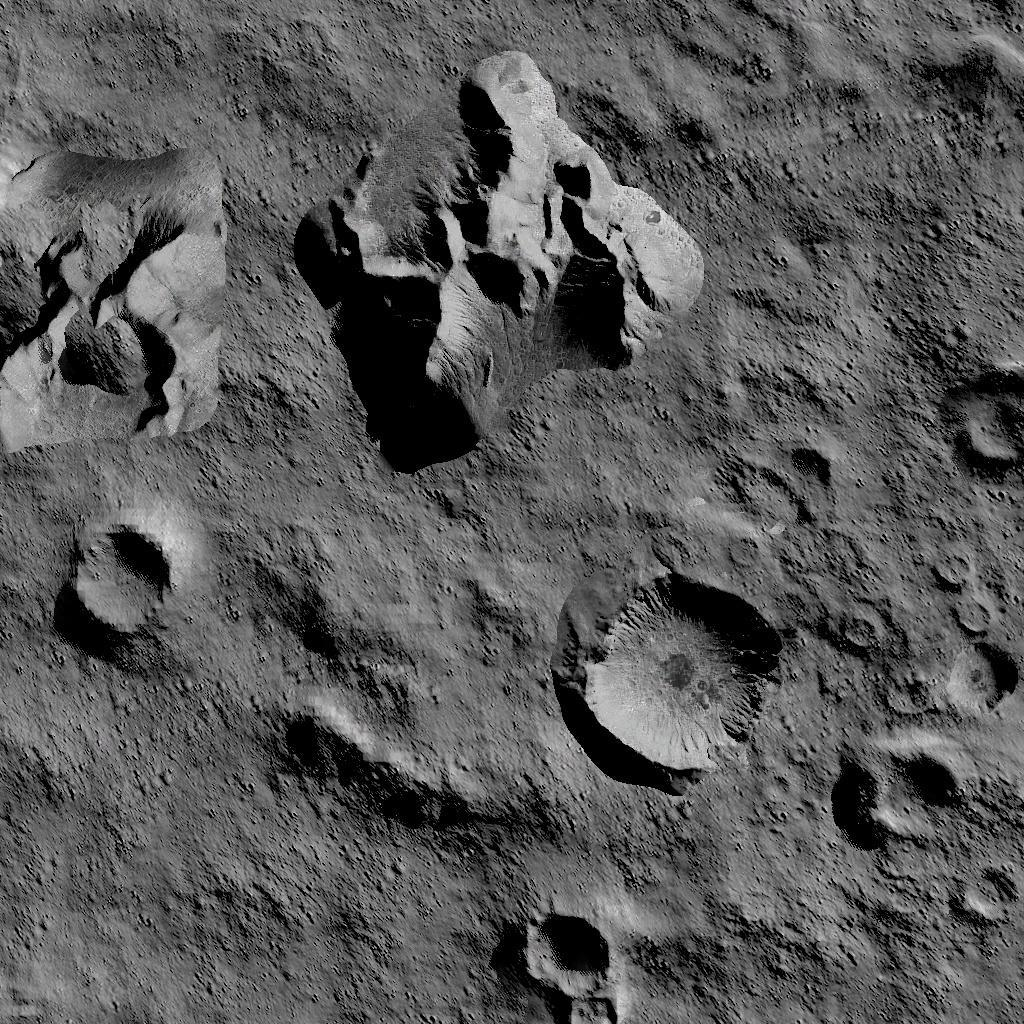Boulders: (296, 52, 700, 470), (0, 142, 226, 458), (286, 698, 560, 852), (911, 38, 1024, 110)
Crater: (574, 570, 780, 778), (831, 735, 975, 855), (511, 910, 623, 1024), (68, 522, 176, 636), (953, 365, 1024, 480), (956, 868, 1020, 930)
Plan surface: (0, 652, 273, 1024), (716, 132, 1024, 352), (0, 0, 281, 130), (288, 868, 498, 1024)
